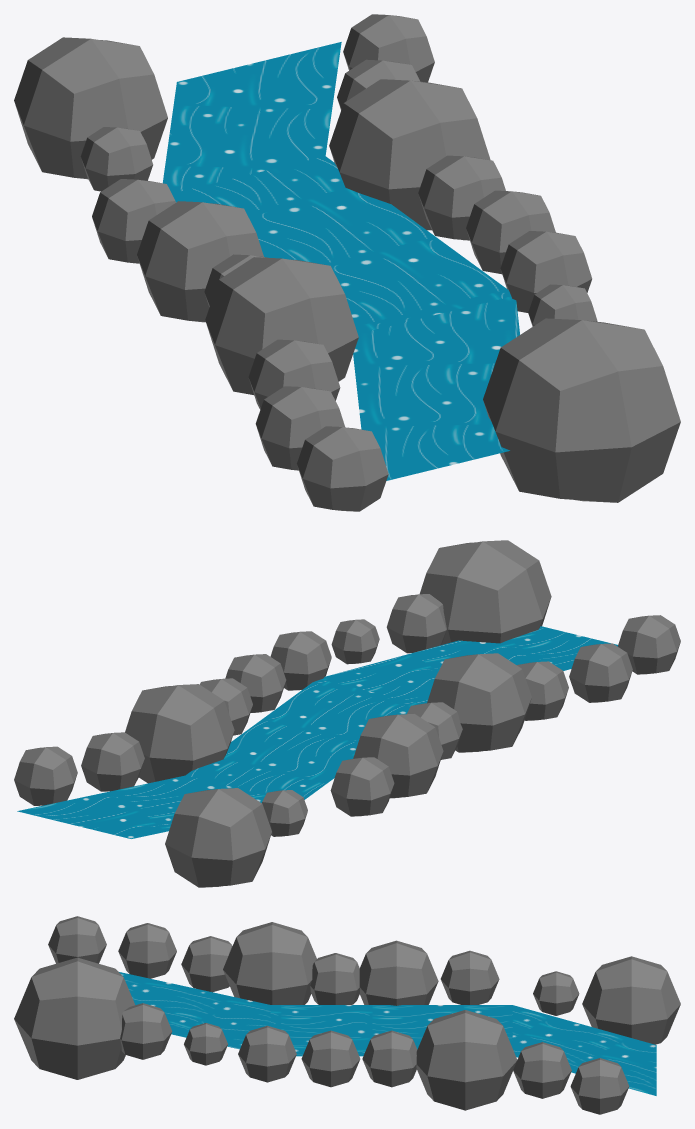
The model's file is River.fbx.
The picture shows the model from 3 angles, top to bottom: view 1: azimuth 30°, elevation 25°; view 2: azimuth 150°, elevation 25°; view 3: azimuth 270°, elevation 25°; orthographic projection. The views are drawn at different scales.
Parts seen in each view (by area): view 1: River; view 2: River; view 3: River.
Part boxes in pixels (x1,y1,x2,y2): River: [14, 14, 680, 511]; River: [14, 540, 680, 887]; River: [14, 916, 680, 1114].
Size of the model in its own units: 163 by 276 by 52.5.
Materials: 2 (1 with a texture image).
